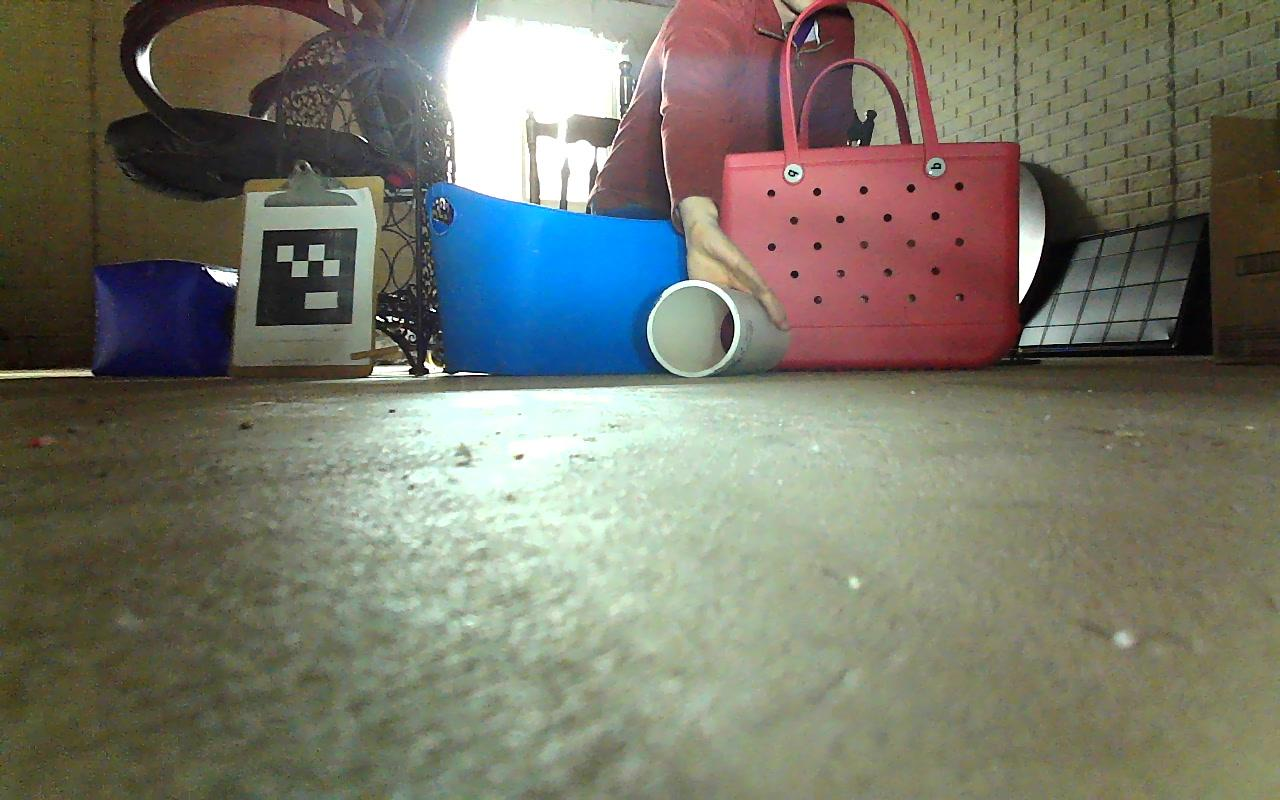coral: (648, 280, 789, 377)
